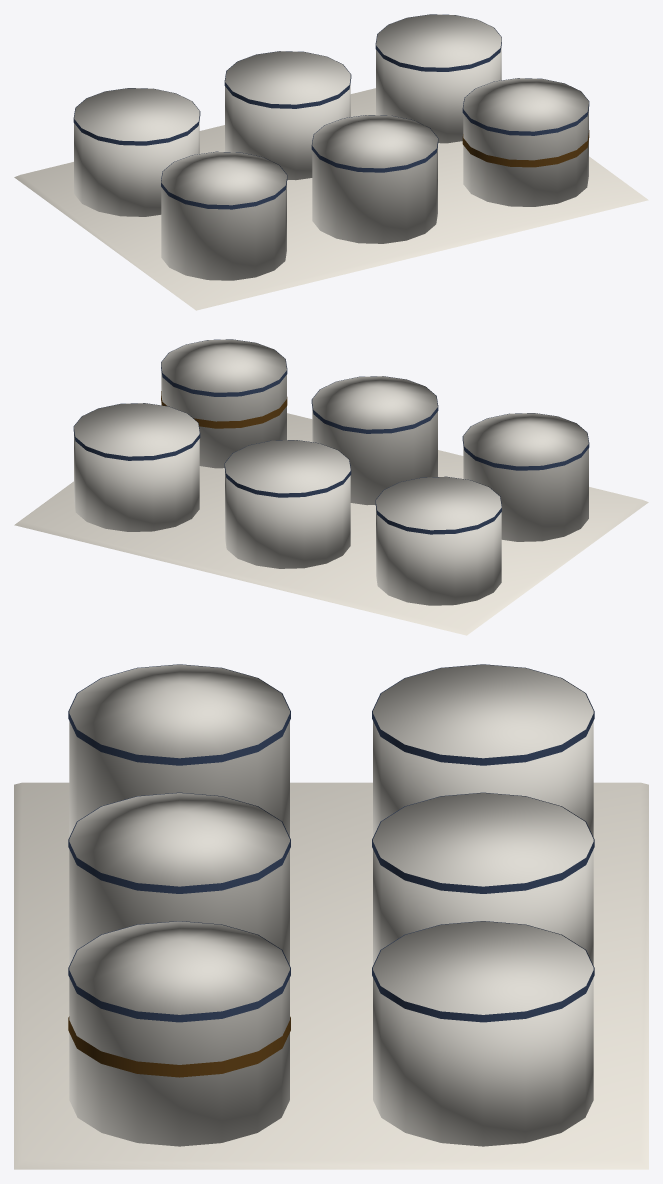
File: terminal-liquidos.glb
3 renders of one model, top to bottom at view 1: azimuth 30°, elevation 25°; view 2: azimuth 150°, elevation 25°; view 3: azimuth 270°, elevation 25°, orthographic. The views are drawn at different scales.
Parts seen in each view (by area): view 1: terminal-liquidos; view 2: terminal-liquidos; view 3: terminal-liquidos.
Boxes of the visible parts, x1,y1,x2,y2 form: terminal-liquidos: [14, 14, 648, 310]; terminal-liquidos: [14, 339, 648, 635]; terminal-liquidos: [14, 664, 648, 1169].
Bounding box in the file's own units: 132 × 25.52 × 92.
